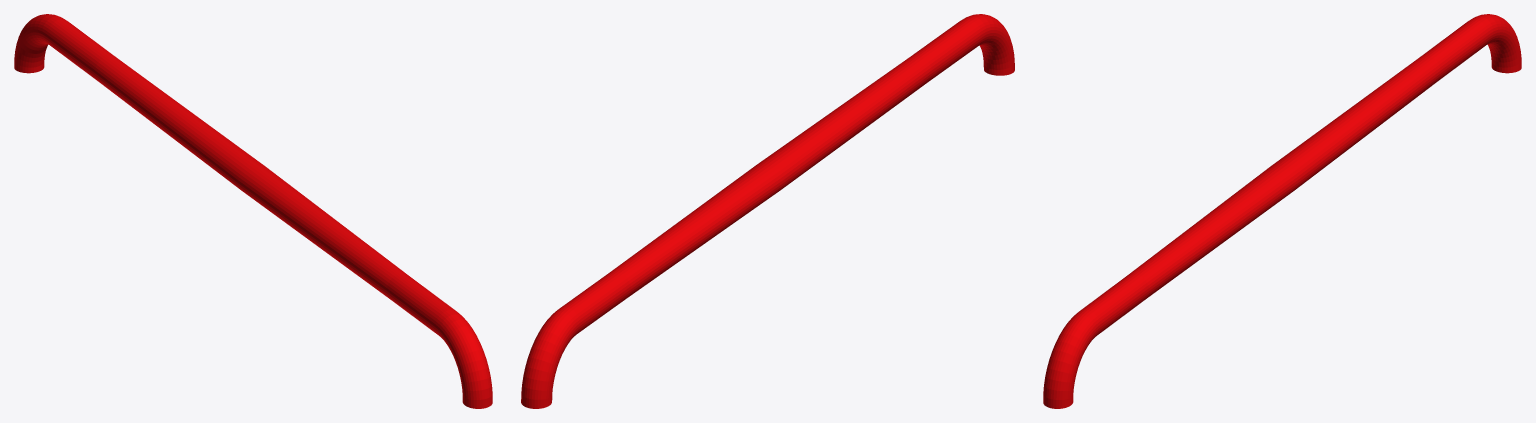
File: ışık.fbx
The picture shows the model from 3 angles, left to right: view 1: azimuth 30°, elevation 25°; view 2: azimuth 150°, elevation 25°; view 3: azimuth 330°, elevation 25°; orthographic projection. The views are drawn at different scales.
Visible parts, largest first — view 1: Cylinder.001; view 2: Cylinder.001; view 3: Cylinder.001.
Boxes of the visible parts, left/top/right/bottom form: Cylinder.001: left=14, top=14, right=492, bottom=408; Cylinder.001: left=521, top=14, right=1014, bottom=408; Cylinder.001: left=1043, top=14, right=1521, bottom=408.
Bounding box in the file's own units: 31.89 × 71.59 × 787.
